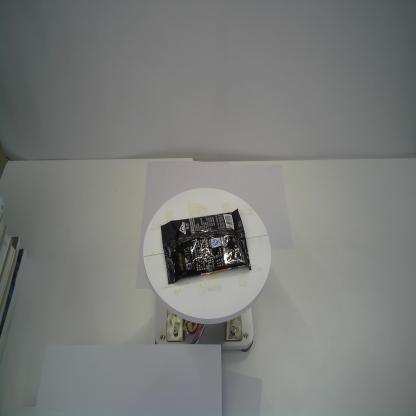Instant Drink: (161, 207, 252, 286)
